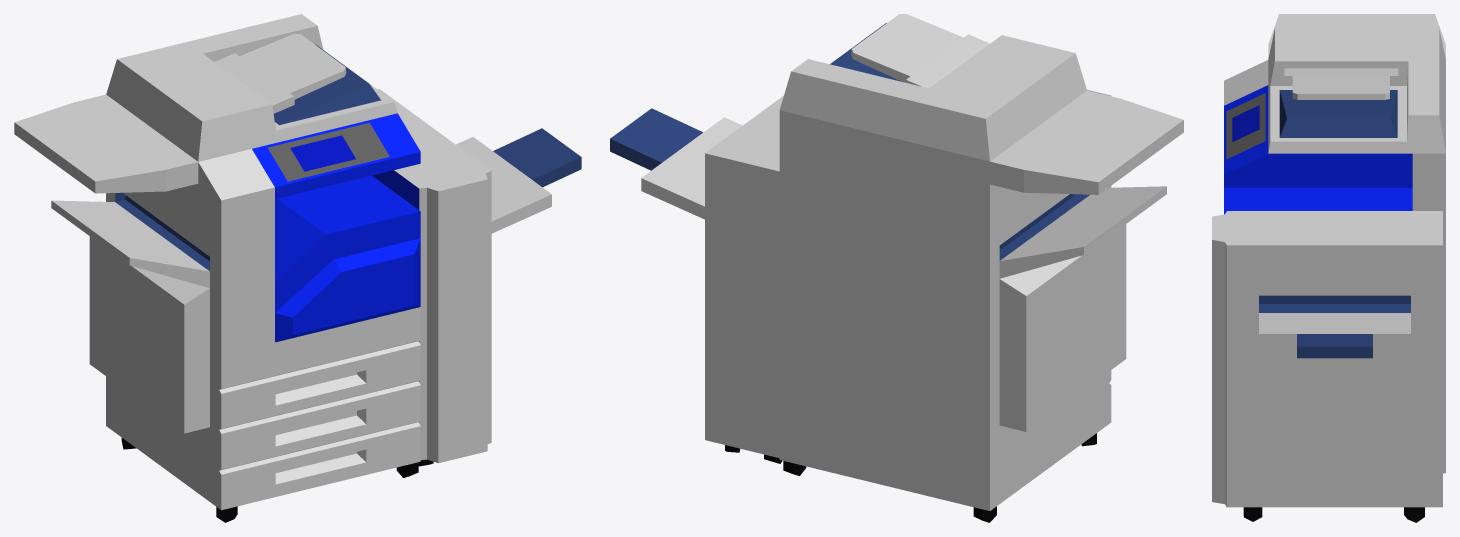
File: Photocopier_01.fbx
3 views of the same model, side by side, from view 1: azimuth 30°, elevation 25°; view 2: azimuth 150°, elevation 25°; view 3: azimuth 270°, elevation 25° (orthographic). The views are drawn at different scales.
Visible parts, largest first — view 1: SM_Prop_Photocopier_01; view 2: SM_Prop_Photocopier_01; view 3: SM_Prop_Photocopier_01.
Part boxes in pixels (x1,y1,x2,y2): SM_Prop_Photocopier_01: (14, 14, 581, 522); SM_Prop_Photocopier_01: (610, 14, 1183, 522); SM_Prop_Photocopier_01: (1212, 14, 1445, 522).
Bounding box in the file's own units: 141 × 107 × 59.72.
